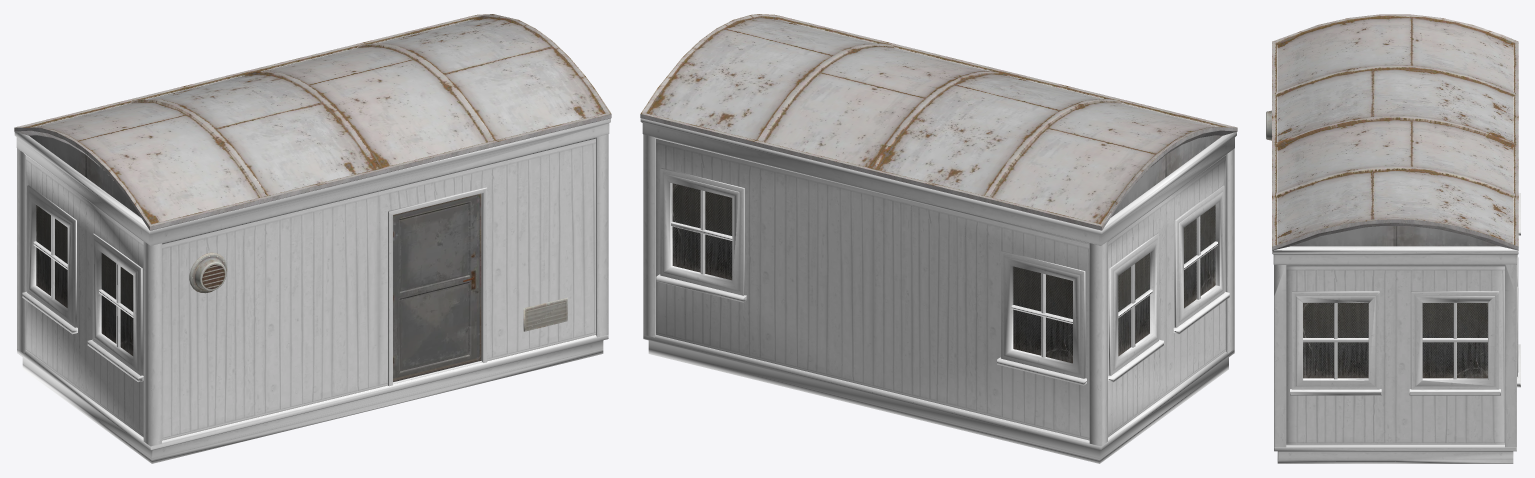
File: temperate_portacabin_building_300_600_a_wood_green.glb
3 views of the same model, side by side, from view 1: azimuth 30°, elevation 25°; view 2: azimuth 150°, elevation 25°; view 3: azimuth 270°, elevation 25° (orthographic). The views are drawn at different scales.
Visible parts, largest first — view 1: portacabin_building_300_600_a_LOD0, portacabin_building_roof_300_600, industrial_doors_a_c, vent_b, vent_a; view 2: portacabin_building_300_600_a_LOD0, portacabin_building_roof_300_600; view 3: portacabin_building_roof_300_600, portacabin_building_300_600_a_LOD0.
Part boxes in pixels (x1,y1,x2,y2): portacabin_building_300_600_a_LOD0: (14,19,610,463); portacabin_building_roof_300_600: (14,14,611,230); industrial_doors_a_c: (393,193,481,381); vent_b: (189,252,227,293); vent_a: (523,297,567,331); portacabin_building_300_600_a_LOD0: (640,19,1236,463); portacabin_building_roof_300_600: (640,14,1237,230); portacabin_building_roof_300_600: (1272,14,1518,250); portacabin_building_300_600_a_LOD0: (1272,45,1520,463).
Size of the model in its own units: 6.15 by 3.42 by 3.2.
Materials: 21 (21 with a texture image).
